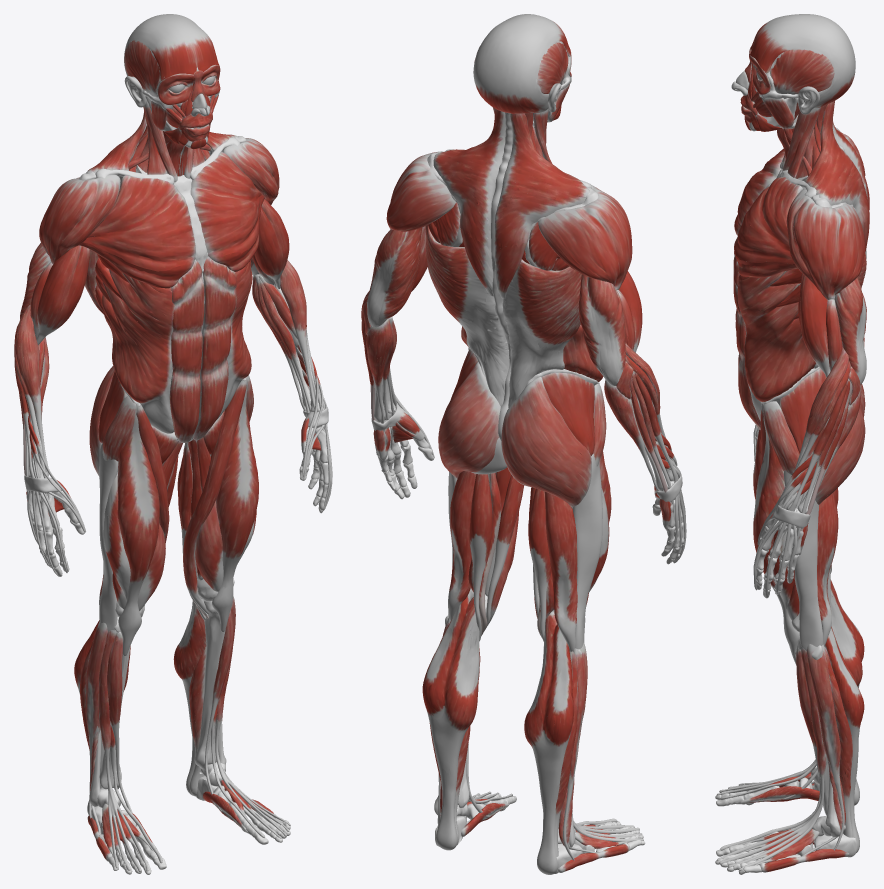
File: musculature.glb
3 views of the same model, side by side, from view 1: azimuth 30°, elevation 25°; view 2: azimuth 150°, elevation 25°; view 3: azimuth 270°, elevation 25° (orthographic). The views are drawn at different scales.
Parts seen in each view (by area): view 1: quads, Object_29, obliques, abs, Object_15, middle_chest, forearms, Object_25, shin, biceps, Object_11, adductors (+14 smaller); view 2: glutes, calves, hamstrings, lats, Object_15, triceps.001, Object_29, Object_11, rear_delts, forearms, upper_traps, lower_back (+15 smaller); view 3: Object_15, Object_29, obliques, Object_25, glutes, calves, forearms, Object_11, shin, quads, side_delts, middle_chest (+16 smaller).
Part boxes in pixels (<box>): quads: <box>103,377,258,656</box>; Object_29: <box>26,41,328,874</box>; obliques: <box>102,260,252,433</box>; abs: <box>170,256,236,442</box>; Object_15: <box>124,14,220,149</box>; middle_chest: <box>83,187,264,271</box>; forearms: <box>14,260,312,446</box>; Object_25: <box>87,623,290,872</box>; shin: <box>85,595,235,757</box>; biceps: <box>30,199,289,345</box>; Object_11: <box>24,76,328,631</box>; adductors: <box>151,410,224,615</box>; glutes: <box>438,349,606,507</box>; calves: <box>422,621,578,809</box>; hamstrings: <box>448,471,577,651</box>; lats: <box>425,225,581,352</box>; Object_15: <box>473,14,571,121</box>; triceps.001: <box>367,226,628,385</box>; Object_29: <box>371,41,684,873</box>; Object_11: <box>371,83,682,649</box>; rear_delts: <box>386,161,618,286</box>; forearms: <box>361,291,668,471</box>; upper_traps: <box>433,109,590,205</box>; lower_back: <box>464,295,564,407</box>; Object_15: <box>740,14,855,131</box>; Object_29: <box>715,49,857,874</box>; obliques: <box>737,272,815,426</box>; Object_25: <box>717,645,849,872</box>; glutes: <box>763,368,865,504</box>; calves: <box>824,585,864,781</box>; forearms: <box>794,347,861,496</box>; Object_11: <box>731,71,845,650</box>; shin: <box>796,644,840,784</box>; quads: <box>753,402,799,665</box>; side_delts: <box>793,127,846,299</box>; middle_chest: <box>735,170,793,264</box>.
Size of the model in its own units: 26.15 by 68.16 by 11.7.
Materials: 16 (14 with a texture image).
